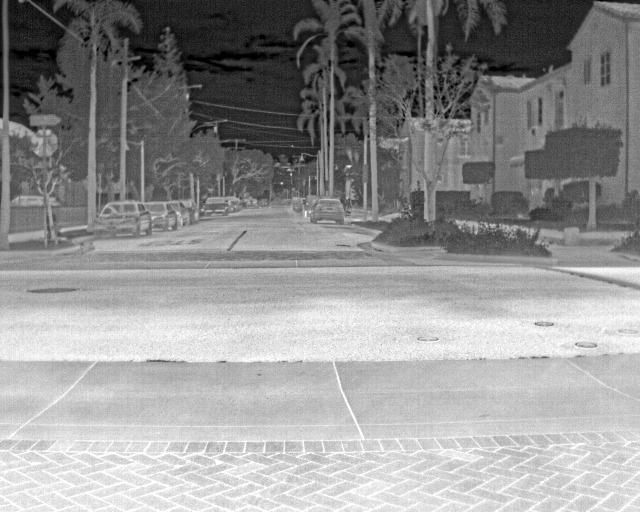car: (93, 200, 151, 239), (310, 197, 344, 225), (152, 200, 177, 230), (202, 195, 228, 216), (178, 197, 199, 222), (172, 201, 190, 226), (301, 194, 314, 215), (226, 195, 241, 212), (289, 195, 303, 213)
